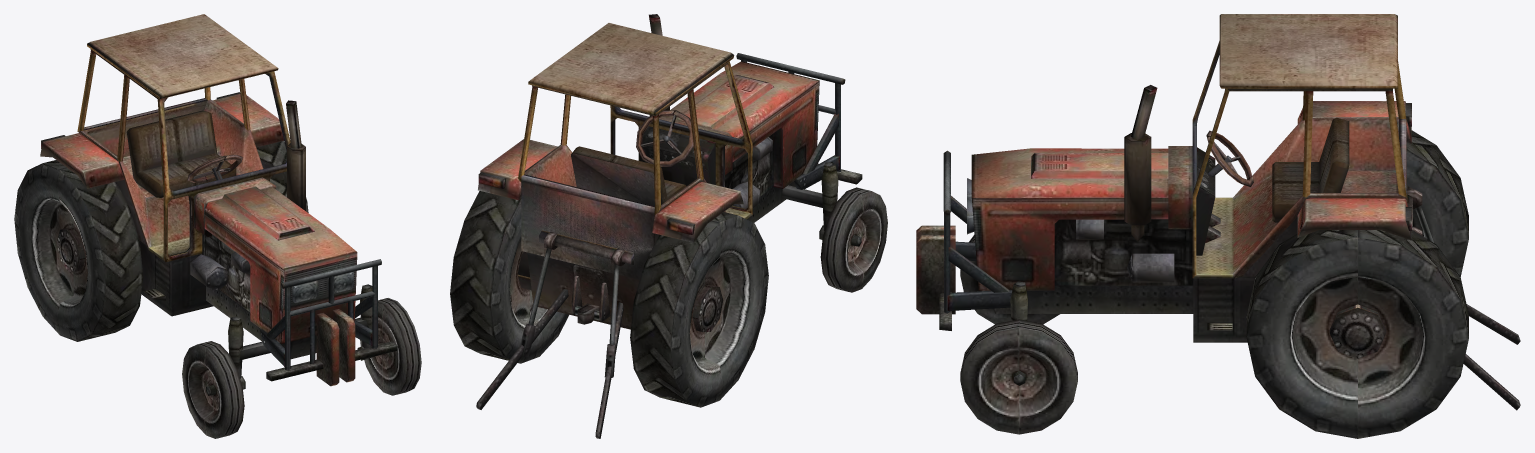
The model's file is tractor.glb.
The picture shows the model from 3 angles, left to right: view 1: azimuth 30°, elevation 25°; view 2: azimuth 150°, elevation 25°; view 3: azimuth 270°, elevation 25°; orthographic projection. The views are drawn at different scales.
Visible parts, largest first — view 1: Object_2; view 2: Object_2; view 3: Object_2.
Boxes of the visible parts, x1,y1,x2,y2 form: Object_2: [14, 14, 421, 438]; Object_2: [450, 14, 887, 438]; Object_2: [916, 14, 1520, 438].
Bounding box in the file's own units: 1.72 × 2.11 × 3.5.
1 material, 1 textured.
